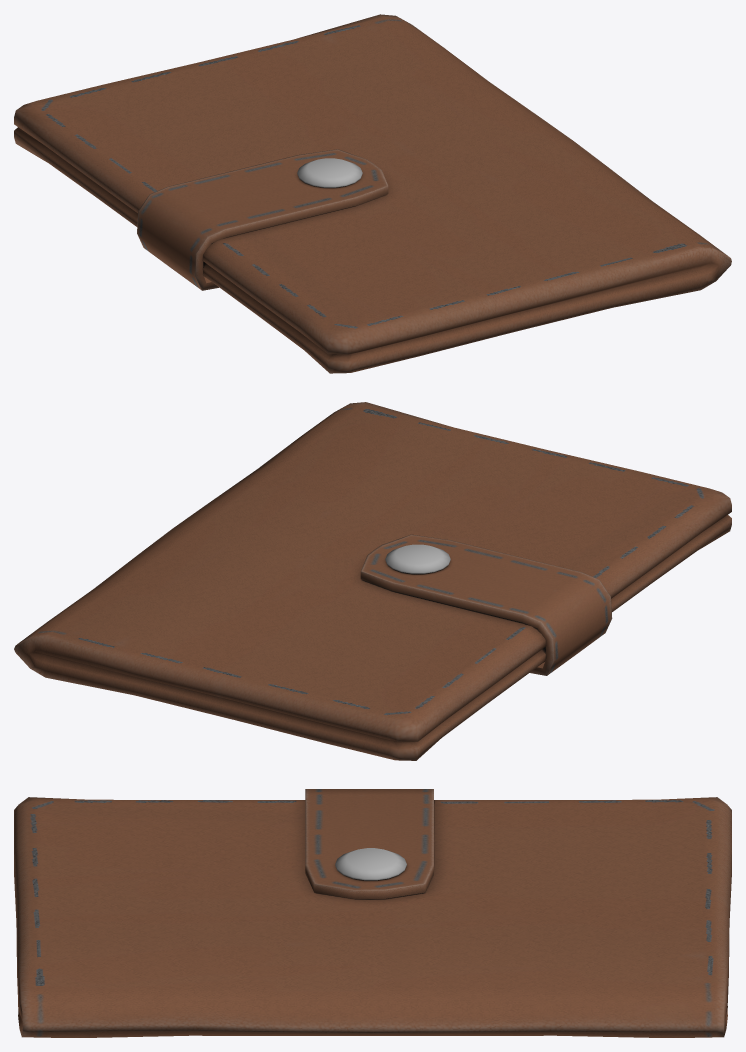
The model's file is scene_gltf.glb.
The picture shows the model from 3 angles, top to bottom: view 1: azimuth 30°, elevation 25°; view 2: azimuth 150°, elevation 25°; view 3: azimuth 270°, elevation 25°; orthographic projection. The views are drawn at different scales.
Parts seen in each view (by area): view 1: Object_3, Object_2; view 2: Object_3, Object_2; view 3: Object_3, Object_2.
Boxes of the visible parts, x1,y1,x2,y2 form: Object_3: [14, 14, 731, 373]; Object_2: [297, 158, 362, 187]; Object_3: [14, 402, 731, 760]; Object_2: [385, 544, 450, 573]; Object_3: [14, 789, 731, 1037]; Object_2: [335, 848, 406, 880].
Size of the model in its own units: 6.28 by 0.9406 by 8.68.
2 materials, 2 textured.
